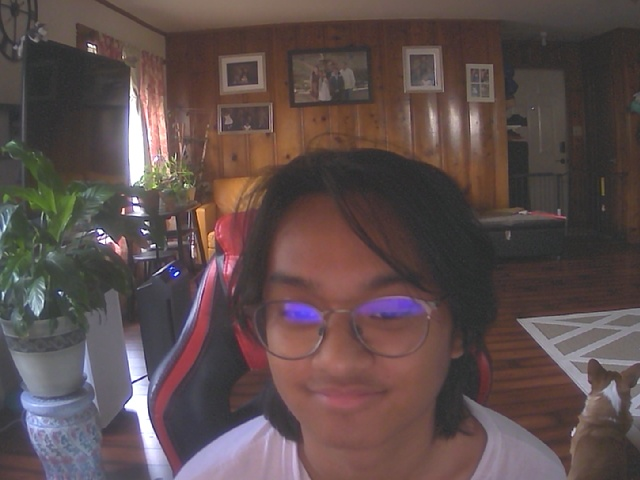happy: (230, 169, 478, 456)
